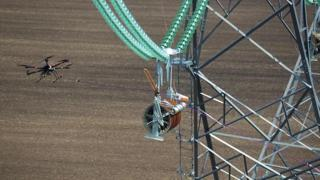UAV: (18, 55, 74, 83)
